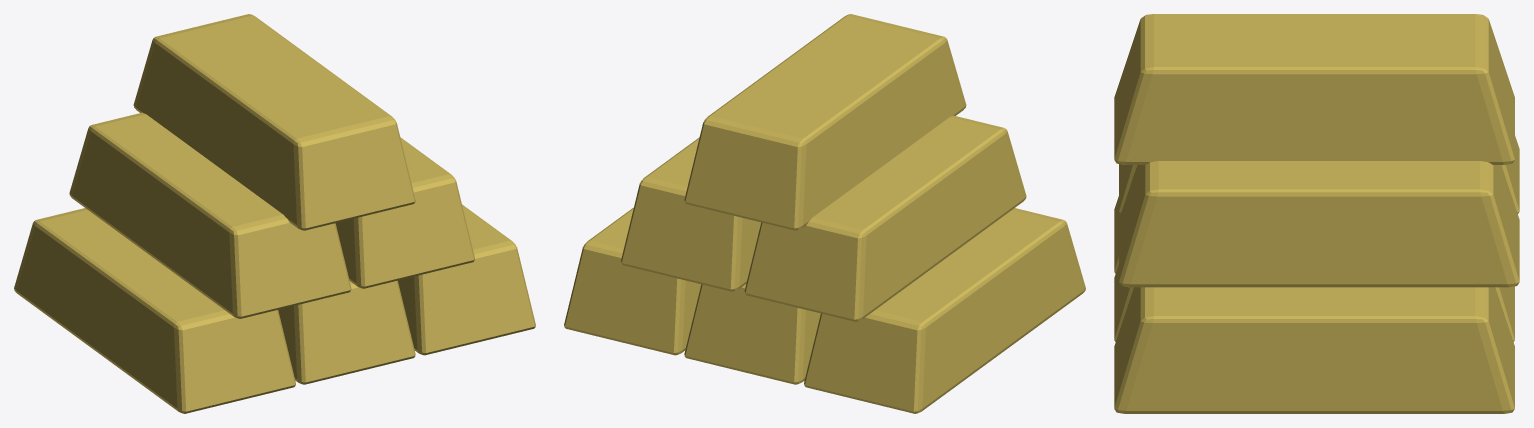
File: gold_ingots.glb
3 renders of one model, left to right at view 1: azimuth 30°, elevation 25°; view 2: azimuth 150°, elevation 25°; view 3: azimuth 270°, elevation 25°, orthographic. The views are drawn at different scales.
Visible parts, largest first — view 1: Gold_Ingots; view 2: Gold_Ingots; view 3: Gold_Ingots.
Part boxes in pixels (left/top/right/bottom): Gold_Ingots: left=14, top=14, right=535, bottom=413; Gold_Ingots: left=564, top=14, right=1085, bottom=413; Gold_Ingots: left=1114, top=14, right=1519, bottom=413.
Size of the model in its own units: 0.72 by 0.4517 by 0.6072.
